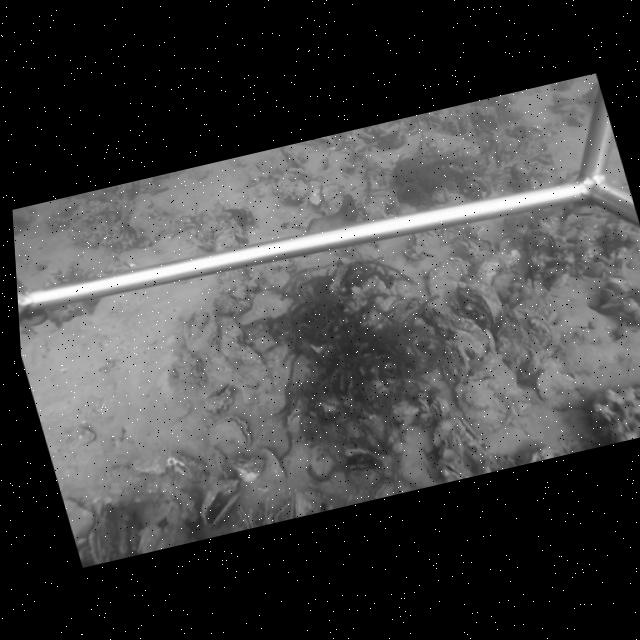Oyster-Closed: (498, 308, 553, 383), (432, 310, 492, 358), (458, 275, 501, 326), (425, 257, 470, 296), (450, 428, 464, 455), (431, 396, 446, 419), (389, 192, 402, 213)
Oyster-Indeterminate: (532, 368, 589, 408), (256, 446, 288, 477), (270, 176, 308, 202)
Oyster-Open: (199, 477, 242, 530), (447, 412, 490, 456), (207, 413, 252, 452), (439, 463, 472, 480), (469, 236, 496, 252)
